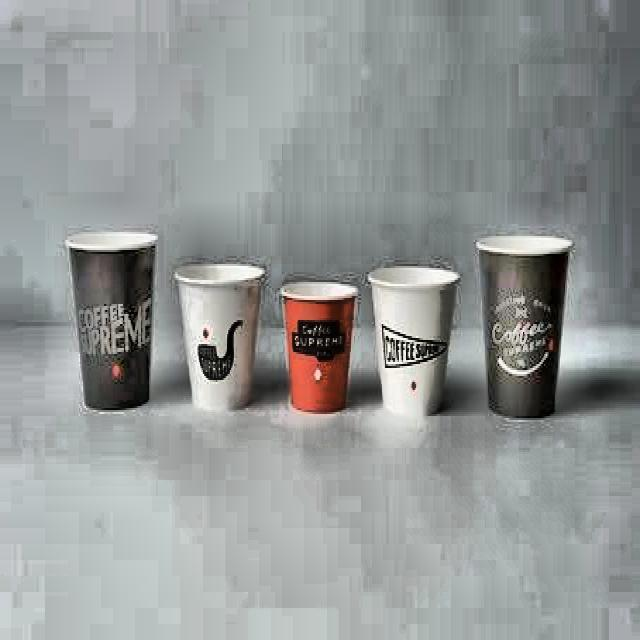Cup: (468, 227, 578, 425), (62, 226, 164, 420), (172, 257, 265, 419), (366, 259, 458, 413), (276, 272, 361, 426)
